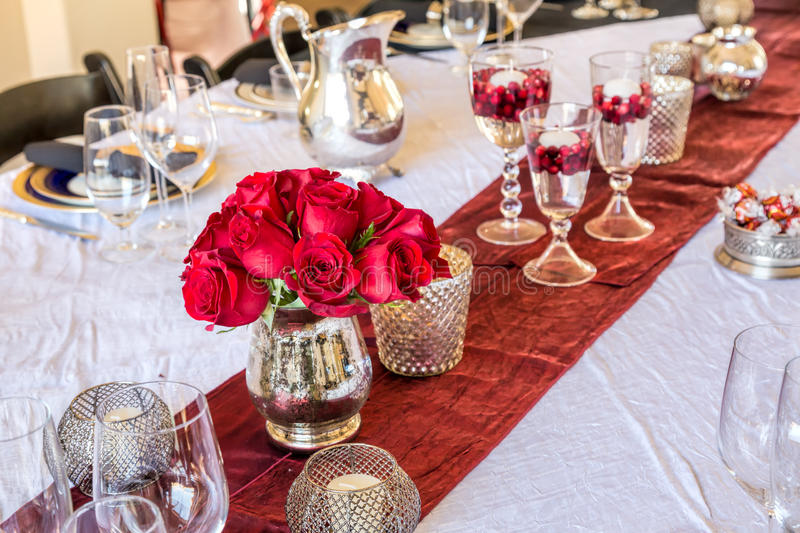RedRose: (173, 253, 270, 328), (284, 240, 365, 320), (296, 179, 365, 257), (377, 207, 453, 274), (354, 243, 431, 309), (234, 204, 288, 279), (274, 161, 337, 215), (222, 167, 282, 219), (358, 171, 401, 238), (190, 206, 237, 265)
